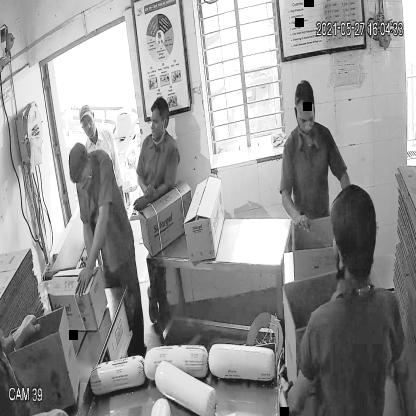no_goggles: (293, 108, 317, 130)
